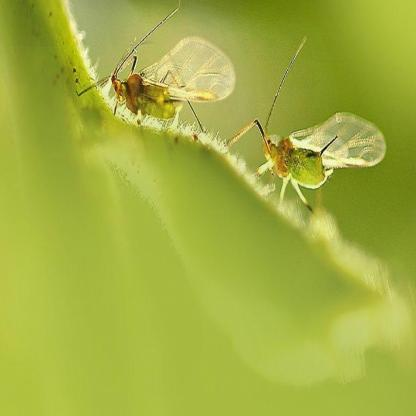aphid: (77, 0, 234, 130), (240, 80, 388, 210)
